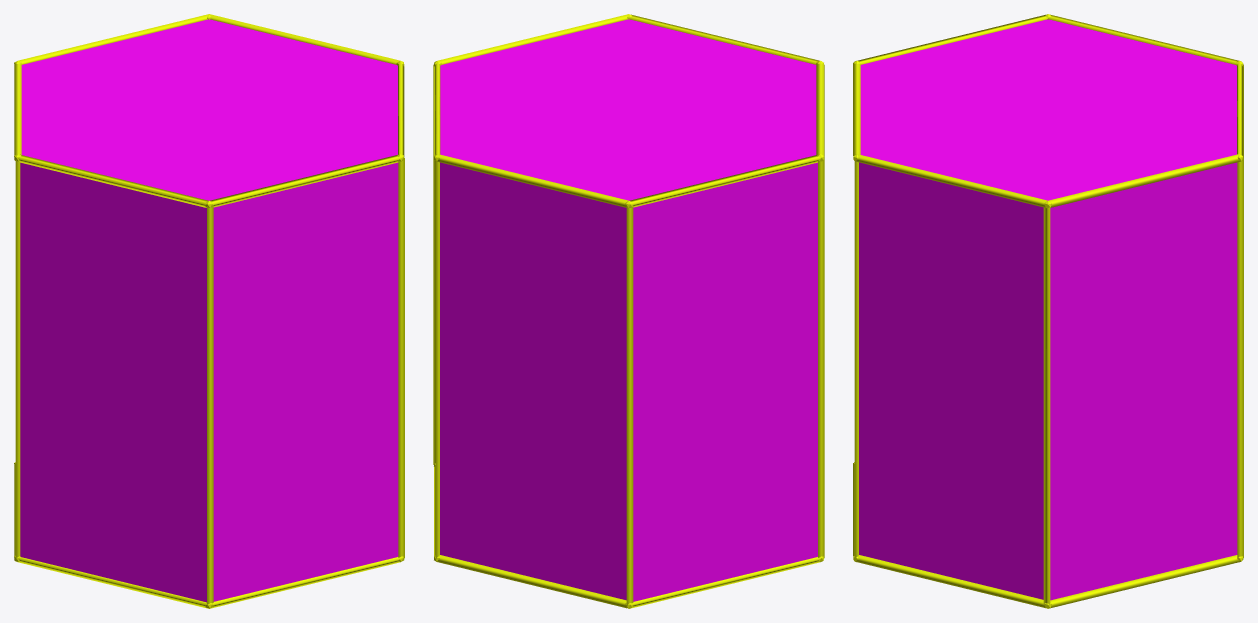
Rendered from hexagono_aristas.glb.
3 renders of one model, left to right at view 1: azimuth 30°, elevation 25°; view 2: azimuth 150°, elevation 25°; view 3: azimuth 270°, elevation 25°, orthographic.
Visible parts, largest first — view 1: Hexagono, aristas; view 2: Hexagono, aristas; view 3: Hexagono, aristas.
Boxes of the visible parts, <box> form: Hexagono: <box>20,19,398,602</box>; aristas: <box>14,14,404,608</box>; Hexagono: <box>440,19,817,601</box>; aristas: <box>433,14,824,608</box>; Hexagono: <box>859,19,1237,600</box>; aristas: <box>853,14,1243,608</box>.
Size of the model in its own units: 0.7756 by 0.7772 by 0.6741.
